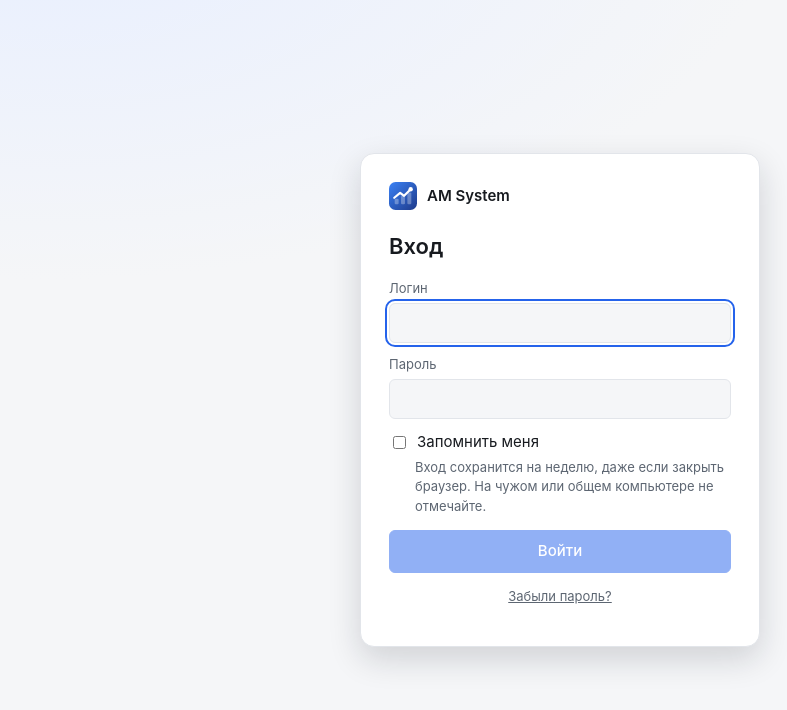
it: LoginPage › tells what to do with a forgotten password
Click the button "Забыли пароль?" at (560, 596), box [508,586,612,606]
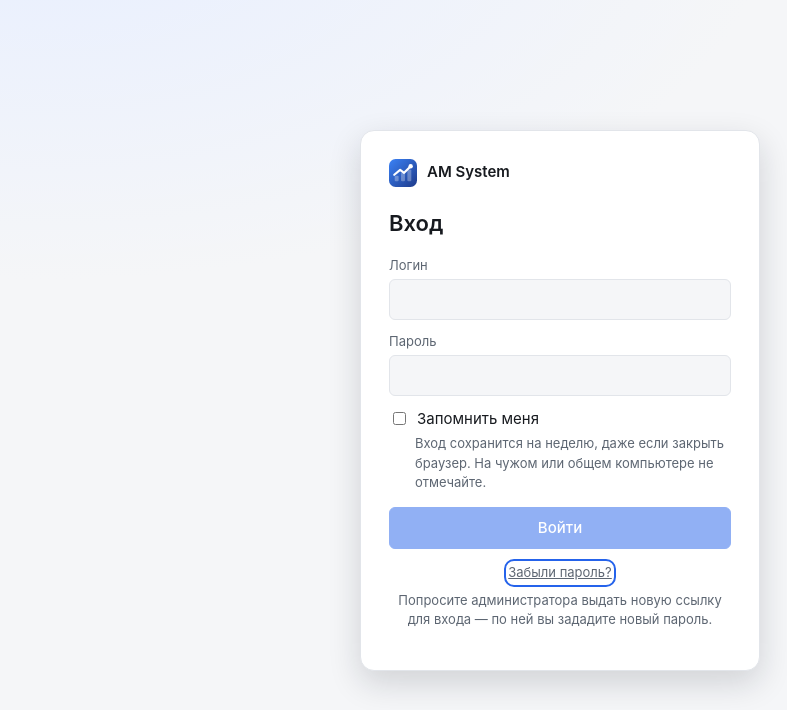
expect the text "Попросите администратора выдать новую ссылку" is shown: met, box [398,592,722,627]
Click the button "Забыли пароль?" at (560, 573), box [508,563,612,582]
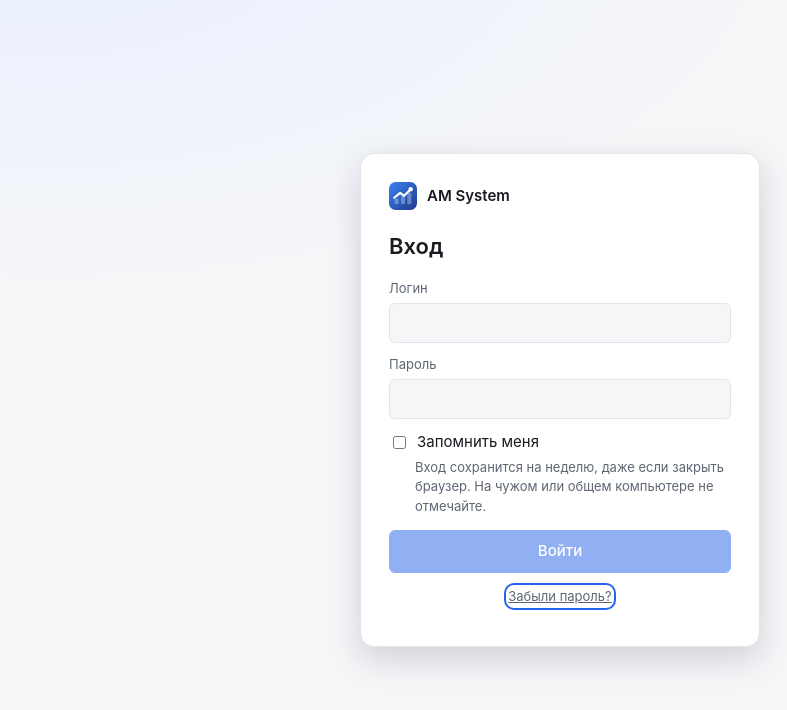
expect the text "Попросите администратора" is gone: met
